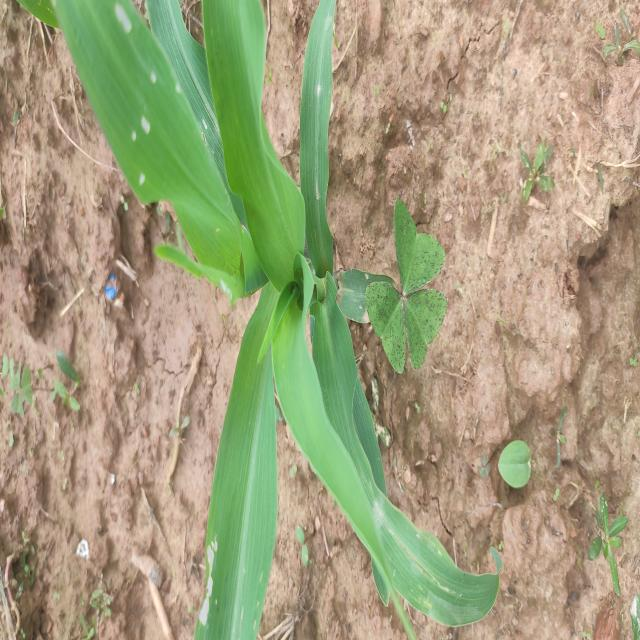maize: (30, 0, 369, 640)
weed: (358, 191, 445, 371), (52, 328, 101, 452), (584, 486, 637, 593), (491, 421, 544, 494), (512, 132, 554, 217), (1, 334, 37, 433), (596, 12, 638, 74), (629, 584, 640, 639)
